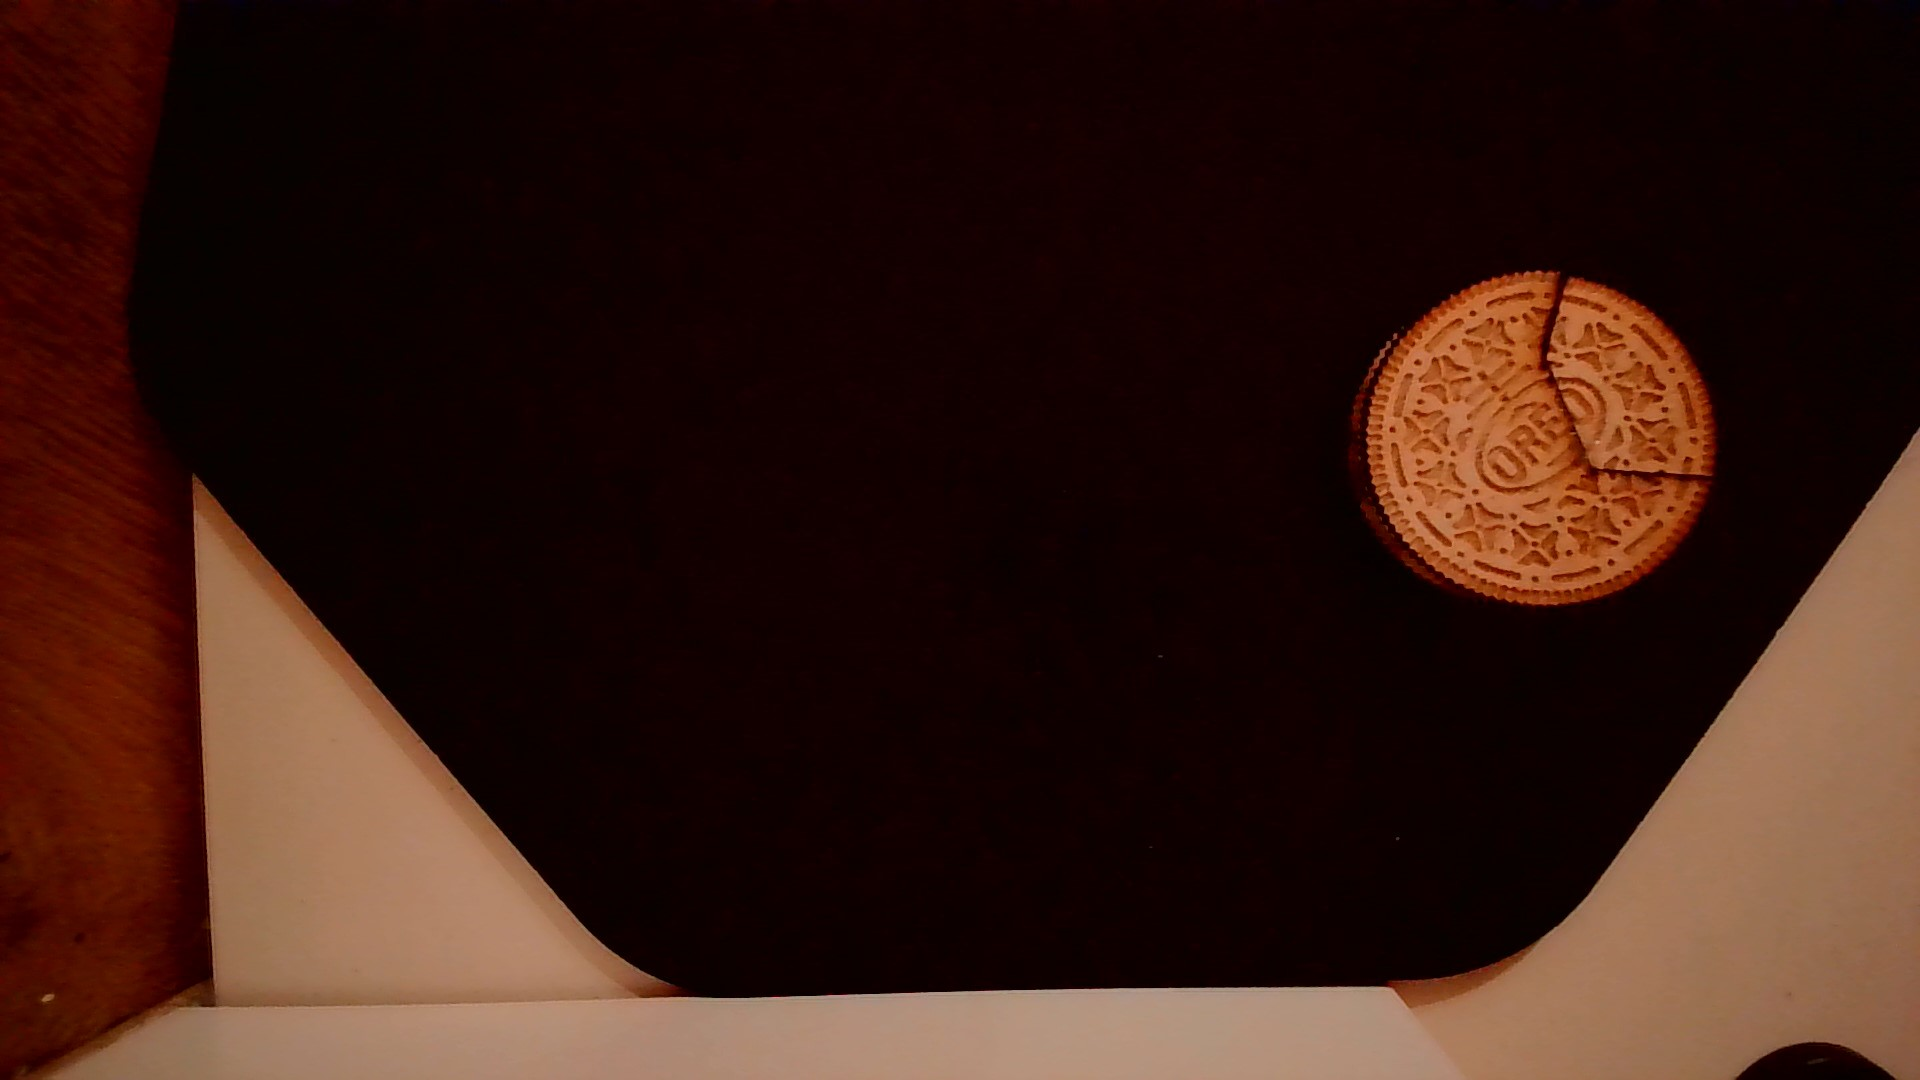Fissure: (1519, 274, 1713, 497)
Oréo: (1341, 264, 1720, 616)
